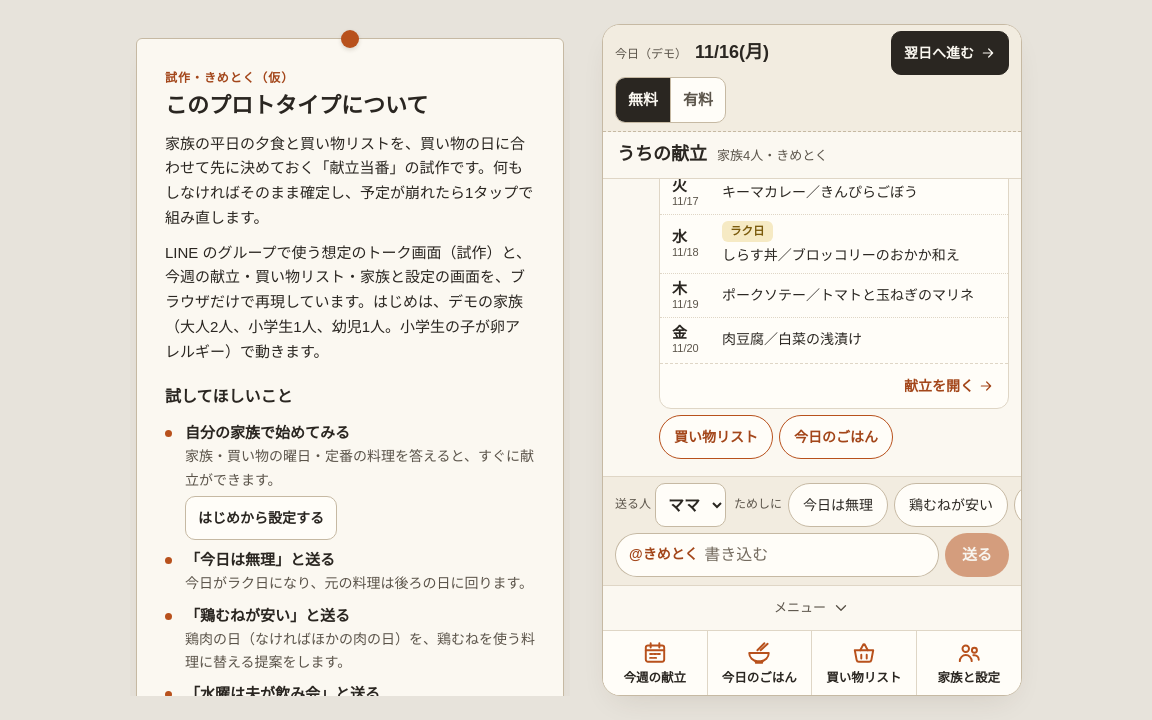
Test: 家族と設定の「日付の進め方」 › デモから本物の日付に切り替えると、すぐに今日まで追いつく
(page scrolled)
What coordinates should you click on to do the following:
click the button "家族と設定"
I would click on:
 (969, 663)
Its box is left=916, top=631, right=1021, bottom=695.
(page scrolled)
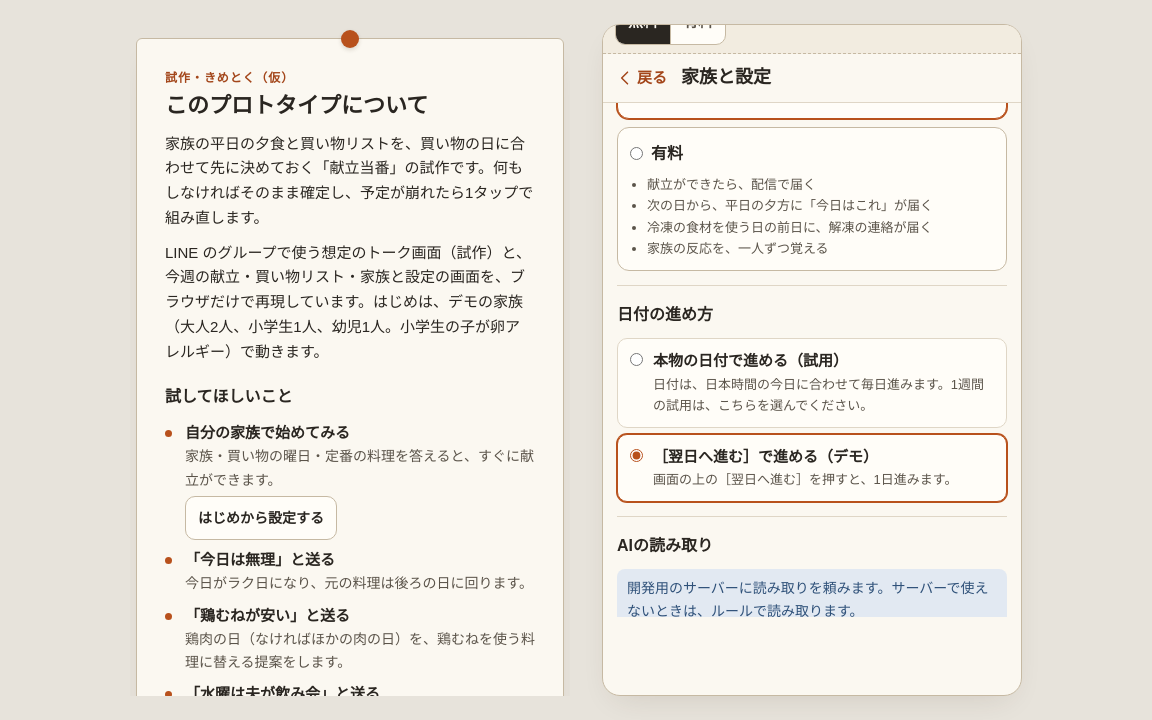
expect the radio button labelled "［翌日へ進む］で進める（デモ） 画面の上の［翌日へ進む］を押すと、1日進みます。" is checked: met, box left=630, top=449, right=643, bottom=462
What coordinates should you click on to do the following:
click the radio button labelled "本物の日付で進める（試用） 日付は、日本時間の今日に合わせて毎日進みます。1週間の試用は、こちらを選んでください。"
I would click on:
 (636, 360)
Its box is left=630, top=353, right=643, bottom=366.
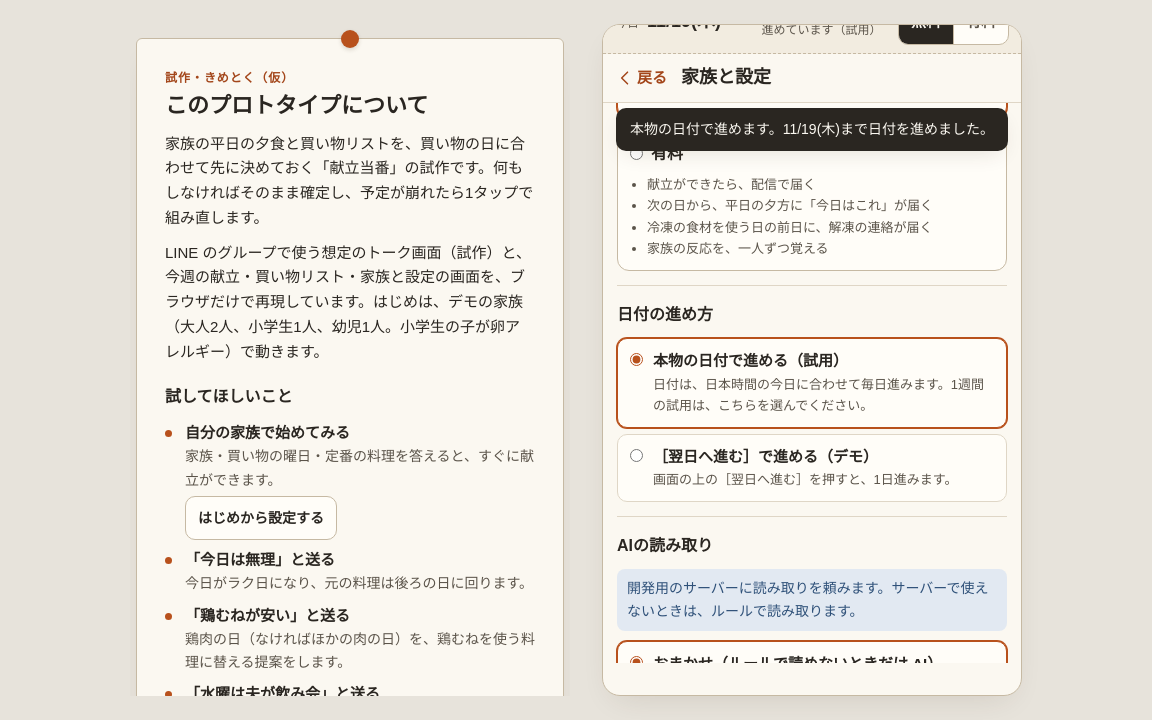
expect the radio button labelled "本物の日付で進める（試用） 日付は、日本時間の今日に合わせて毎日進みます。1週間の試用は、こちらを選んでください。" is checked: met, box left=630, top=353, right=643, bottom=366
expect the text "本物の日付で進めます。11/19(木)まで日付を進めました。" is shown: met, box left=616, top=108, right=1008, bottom=151
